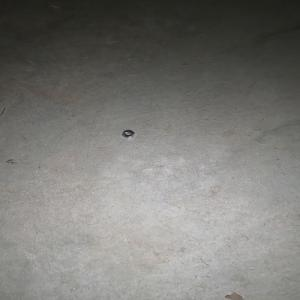Nut: (122, 131, 134, 138)
